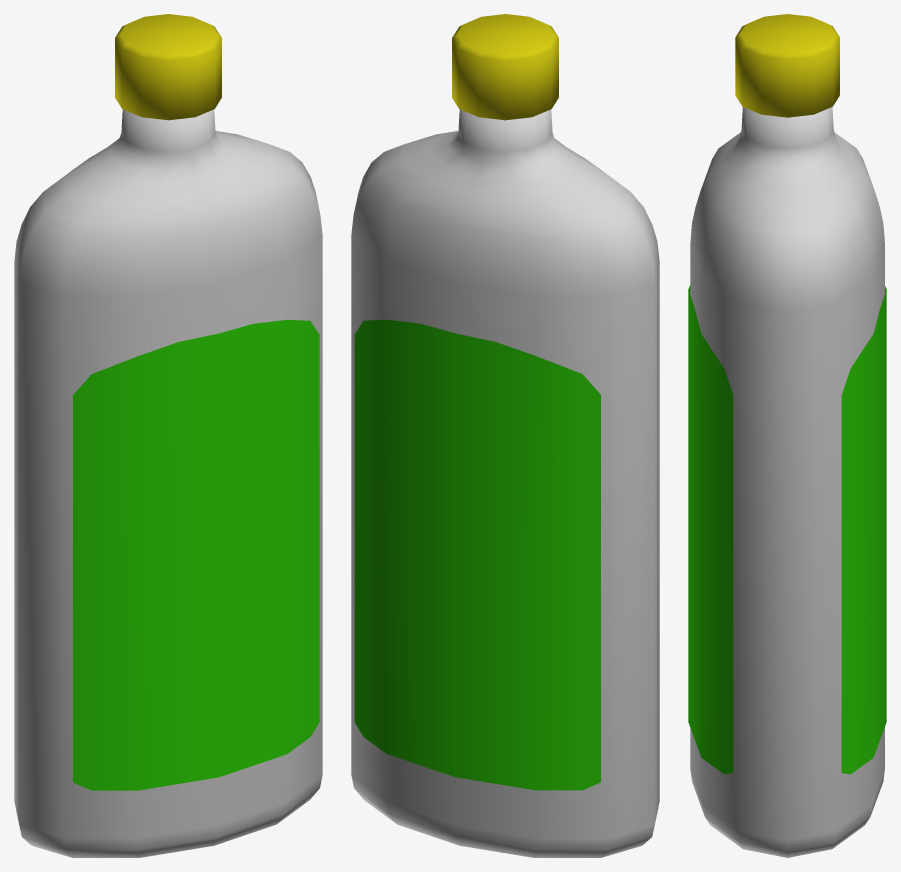
File: BHP_MOD_BOT_Herbal_liqueur.fbx
3 views of the same model, side by side, from view 1: azimuth 30°, elevation 25°; view 2: azimuth 150°, elevation 25°; view 3: azimuth 270°, elevation 25° (orthographic). The views are drawn at different scales.
Parts seen in each view (by area): view 1: BHP_MOD_BOT_Herbal_liqueur; view 2: BHP_MOD_BOT_Herbal_liqueur; view 3: BHP_MOD_BOT_Herbal_liqueur.
Part boxes in pixels (bbox=[...]): BHP_MOD_BOT_Herbal_liqueur: bbox=[14, 14, 322, 857]; BHP_MOD_BOT_Herbal_liqueur: bbox=[351, 14, 659, 857]; BHP_MOD_BOT_Herbal_liqueur: bbox=[688, 14, 886, 857].
Size of the model in its own units: 0.1149 by 0.2865 by 0.0678.
